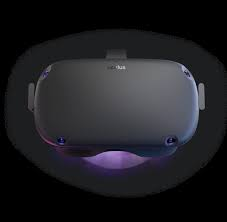oculus: (27, 54, 209, 164)
